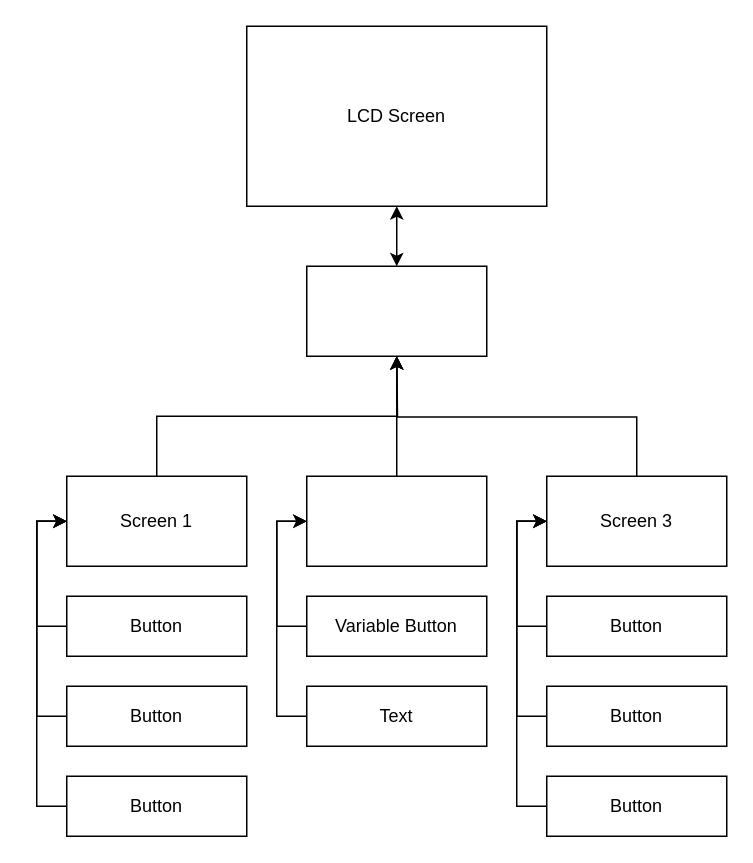
The diagram is 753 pixels wide and 863 high, and some of its shapes have lost their labels. The centre of each missing label's shape, as x and y in pixels:
"Menu.h" goes at (x=396, y=310).
"Screen 2" goes at (x=396, y=520).
